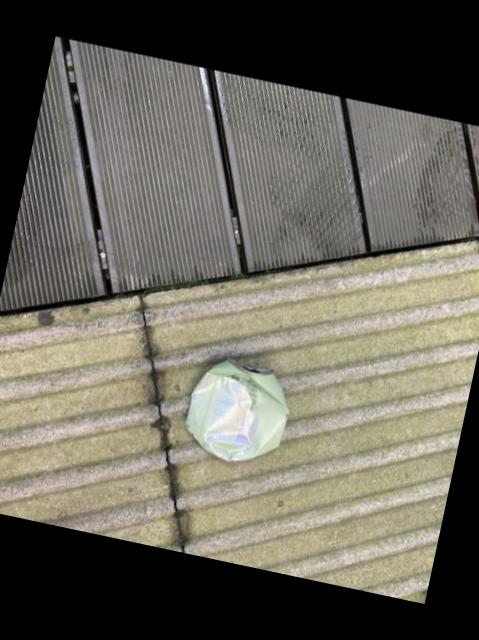metal: (185, 359, 288, 458)
